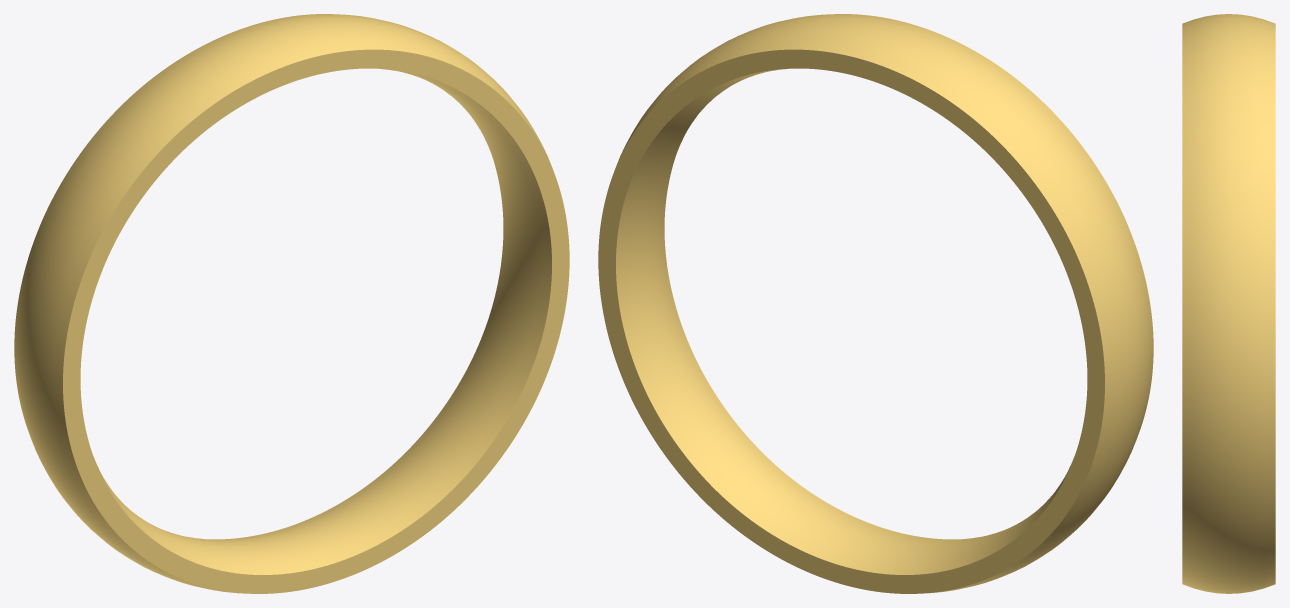
The model's file is GiddeonYG_blender.glb.
3 views of the same model, side by side, from view 1: azimuth 30°, elevation 25°; view 2: azimuth 150°, elevation 25°; view 3: azimuth 270°, elevation 25° (orthographic). The views are drawn at different scales.
Visible parts, largest first — view 1: Giddeon YG 3.5 mm; view 2: Giddeon YG 3.5 mm; view 3: Giddeon YG 3.5 mm.
Part boxes in pixels (bbox=[...]): Giddeon YG 3.5 mm: bbox=[14, 14, 569, 593]; Giddeon YG 3.5 mm: bbox=[598, 14, 1153, 593]; Giddeon YG 3.5 mm: bbox=[1182, 14, 1275, 593].
Bounding box in the file's own units: 22.4 × 22.4 × 3.6.
